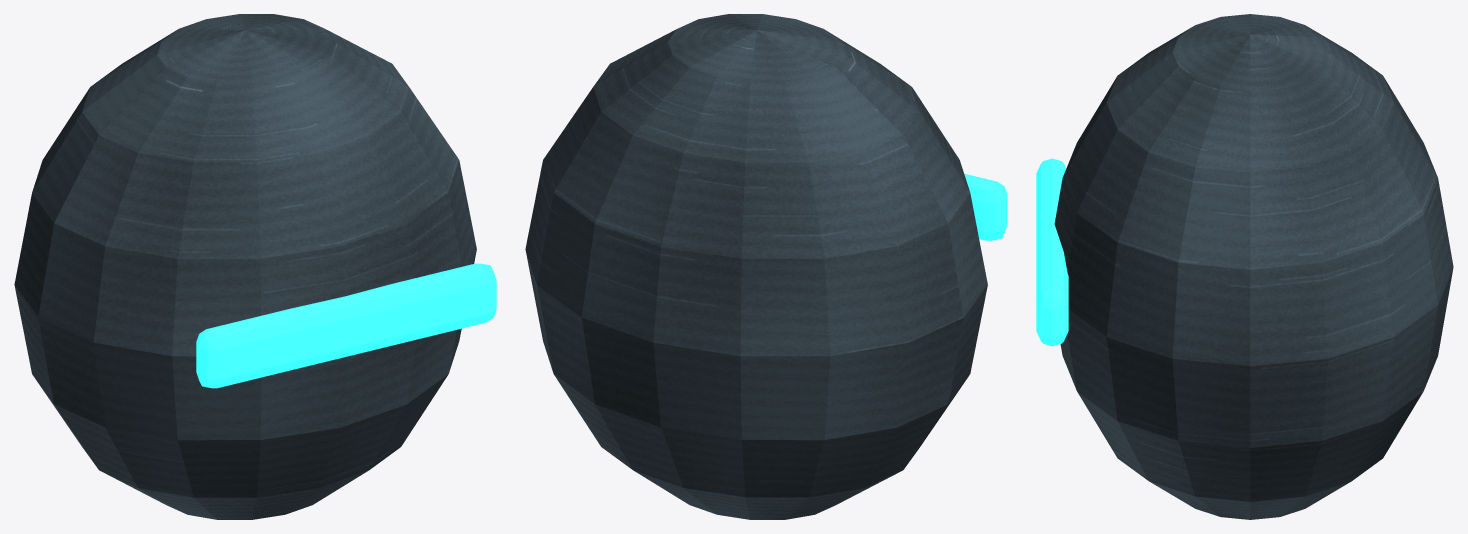
Rendered from helmet.glb.
The picture shows the model from 3 angles, left to right: view 1: azimuth 30°, elevation 25°; view 2: azimuth 150°, elevation 25°; view 3: azimuth 270°, elevation 25°; orthographic projection.
Parts seen in each view (by area): view 1: helmet; view 2: helmet; view 3: helmet.
Boxes of the visible parts, x1=… form: helmet: x1=14, y1=14, x2=496, y2=519; helmet: x1=525, y1=14, x2=1007, y2=519; helmet: x1=1036, y1=14, x2=1453, y2=519.
Size of the model in its own units: 0.88 by 0.96 by 0.78.
Materials: 2 (1 with a texture image).
